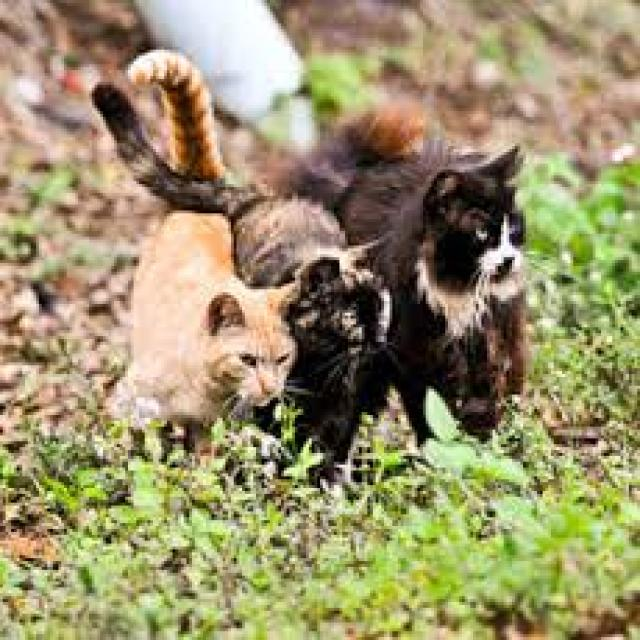cat: (93, 85, 389, 452), (339, 106, 525, 430), (115, 211, 296, 434), (129, 50, 224, 179)
